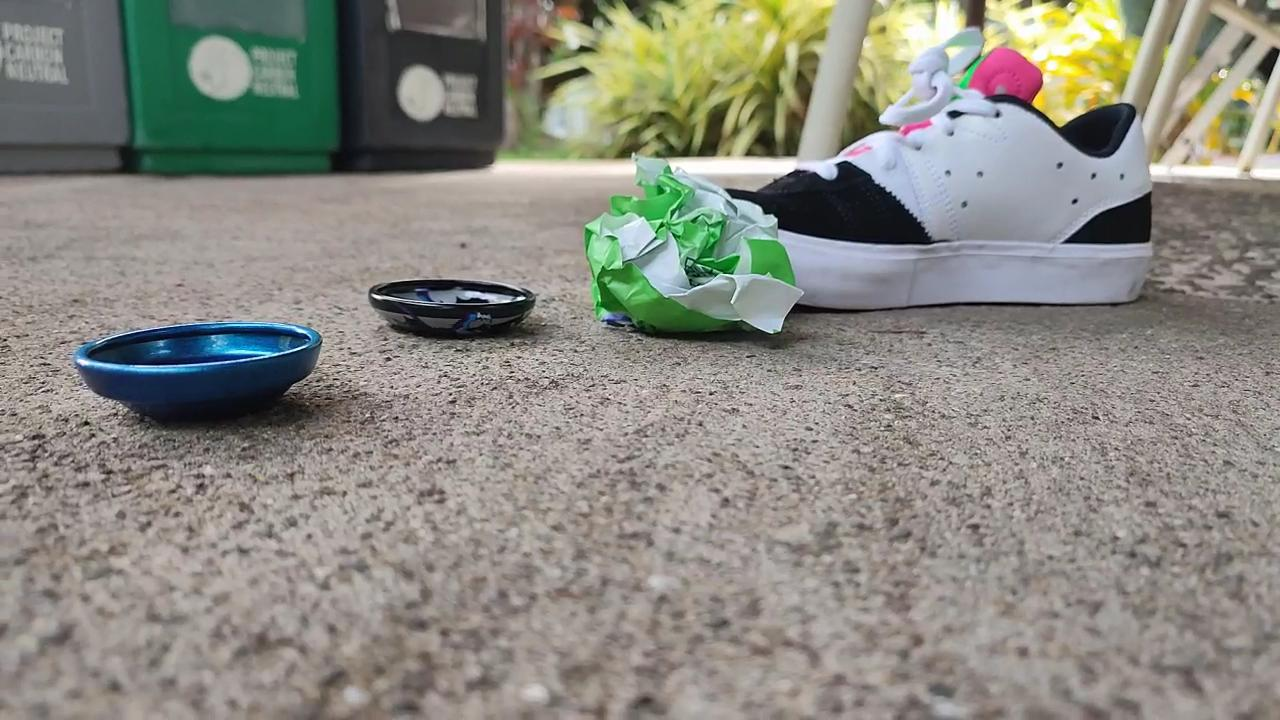Paper: (572, 137, 814, 359)
